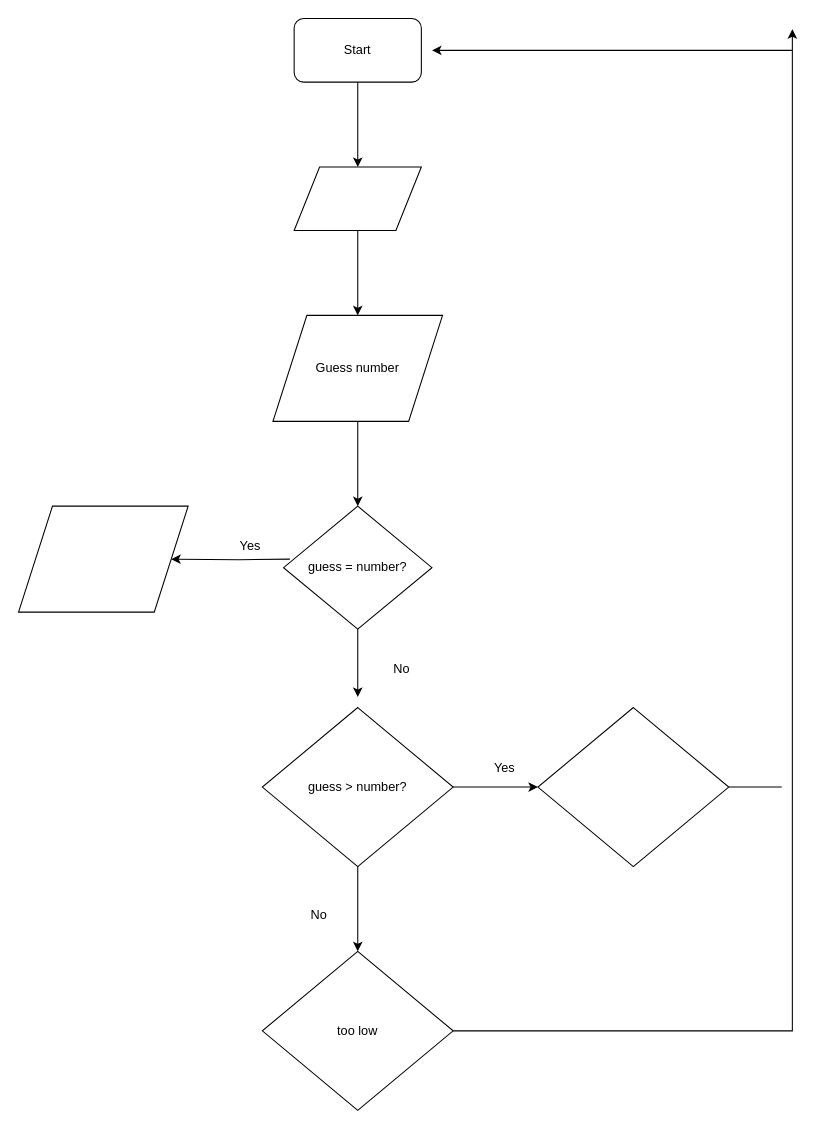
Image size: 819x1129. Some labels were removed from this diagram. Here are the shapes that lost their labels. From the top down, the box of each, then its label:
(293, 166, 421, 231): Number 15
(17, 505, 188, 612): Correct
(537, 706, 729, 867): too high
